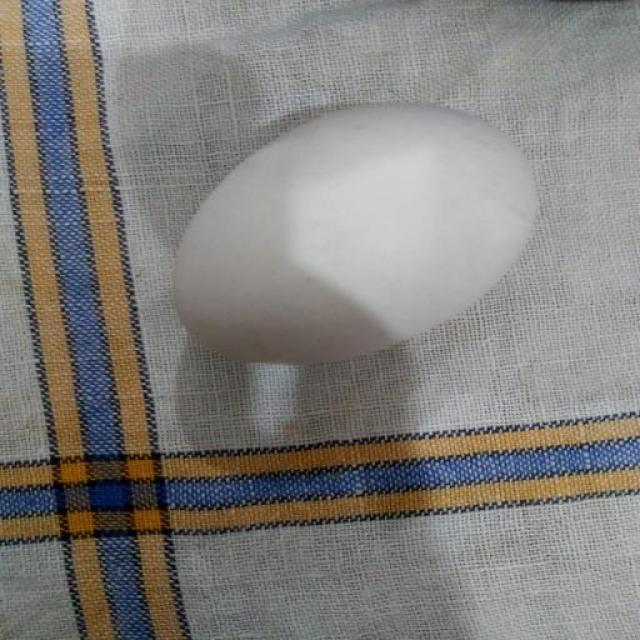telur: (166, 102, 542, 368)
